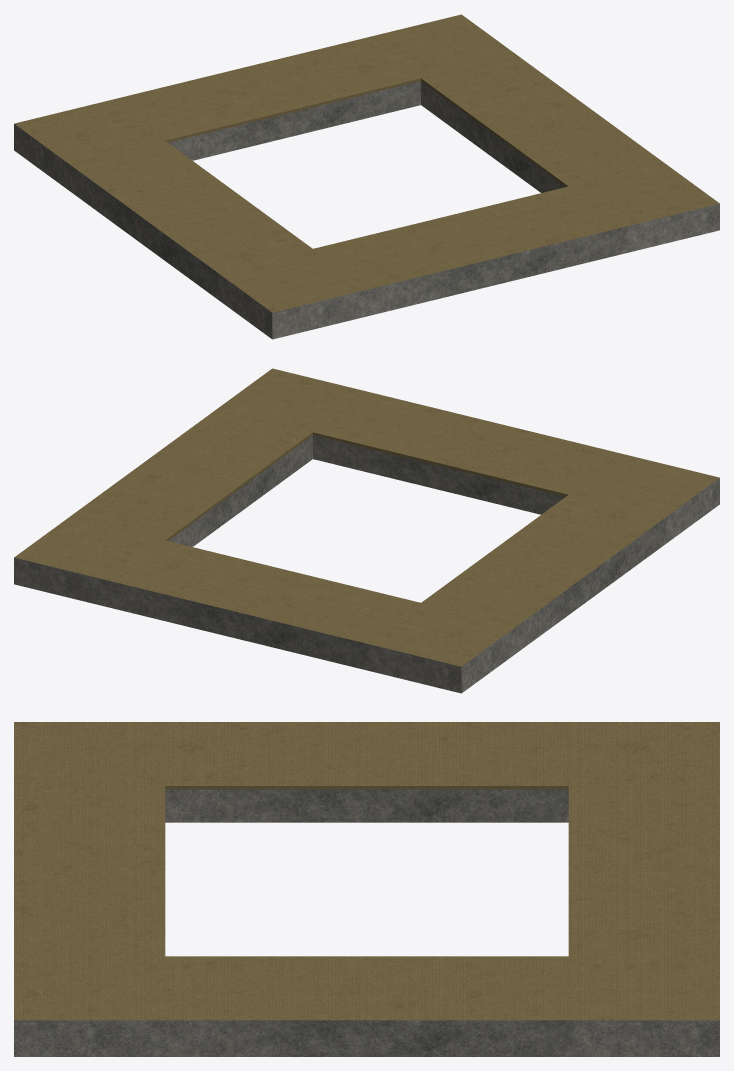
The model's file is SM_L0_Pit_HoleTile.fbx.
The picture shows the model from 3 angles, top to bottom: view 1: azimuth 30°, elevation 25°; view 2: azimuth 150°, elevation 25°; view 3: azimuth 270°, elevation 25°; orthographic projection. The views are drawn at different scales.
Visible parts, largest first — view 1: SM_L0_Pit_HoleTile; view 2: SM_L0_Pit_HoleTile; view 3: SM_L0_Pit_HoleTile.
Part boxes in pixels (x1,y1,x2,y2): SM_L0_Pit_HoleTile: [14, 14, 719, 339]; SM_L0_Pit_HoleTile: [14, 368, 719, 693]; SM_L0_Pit_HoleTile: [14, 722, 719, 1056].
Size of what is drawn, in the model's own units: 3.5 by 0.2 by 3.5.
